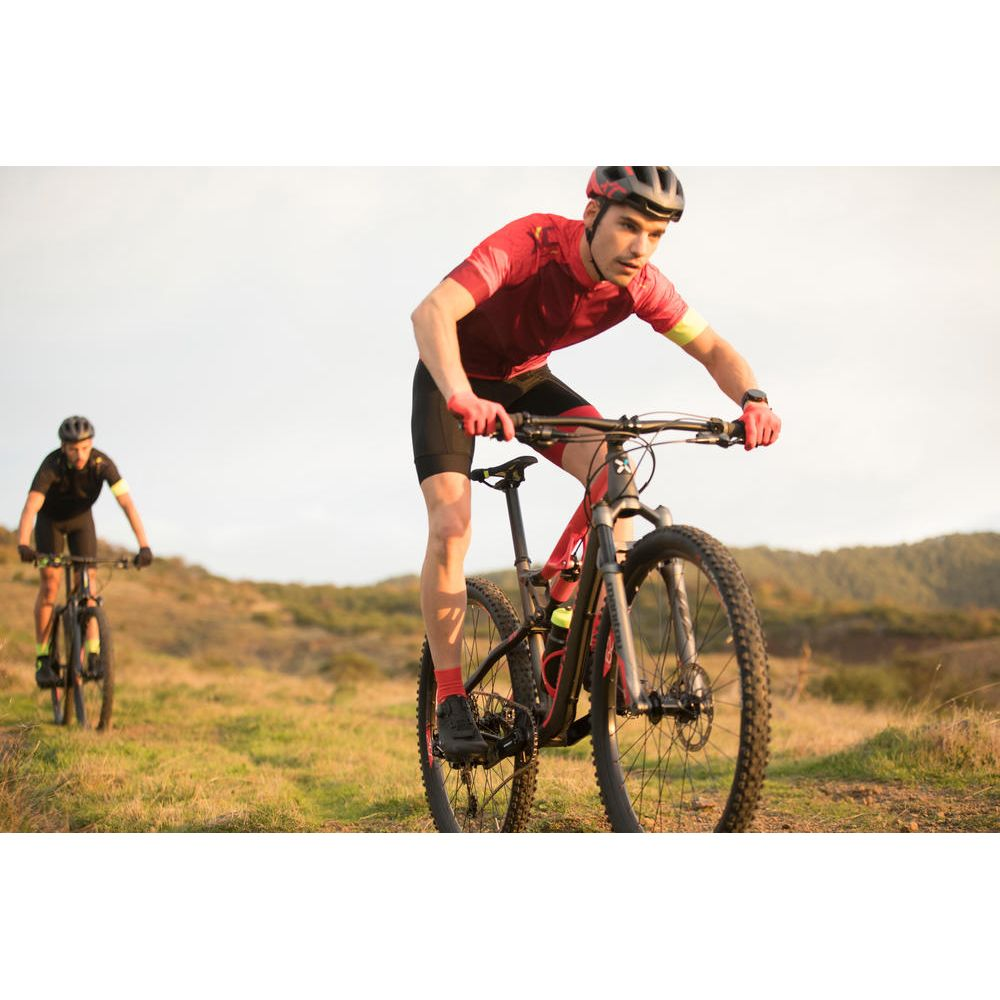MountainBike: (410, 402, 778, 836), (11, 543, 153, 739)
